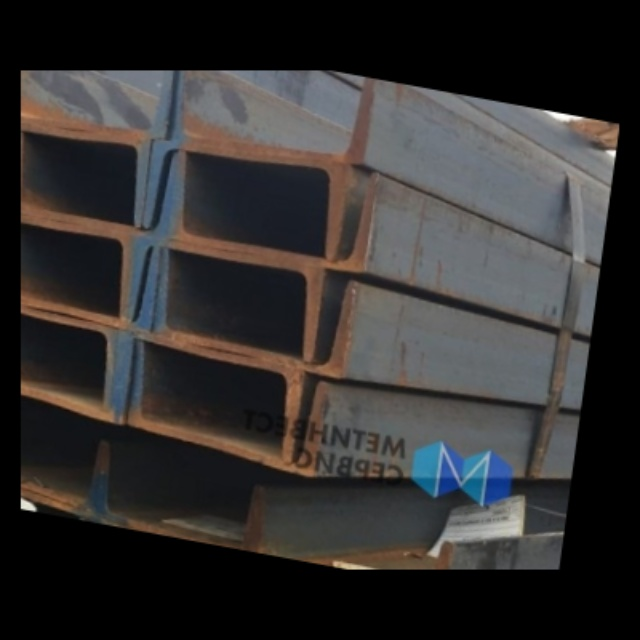Shveller: (170, 141, 376, 271), (127, 345, 326, 475), (146, 134, 345, 261), (154, 252, 354, 375), (126, 237, 320, 356), (114, 337, 299, 458), (171, 70, 372, 172), (94, 446, 255, 550), (21, 129, 173, 235), (253, 493, 450, 570), (21, 225, 155, 329), (21, 117, 146, 224), (21, 308, 129, 420), (21, 70, 171, 140), (21, 217, 127, 313), (21, 303, 116, 405), (21, 406, 99, 500), (21, 478, 86, 520)
